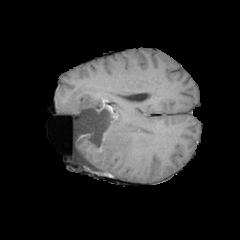glioma: (68, 86, 151, 167)
